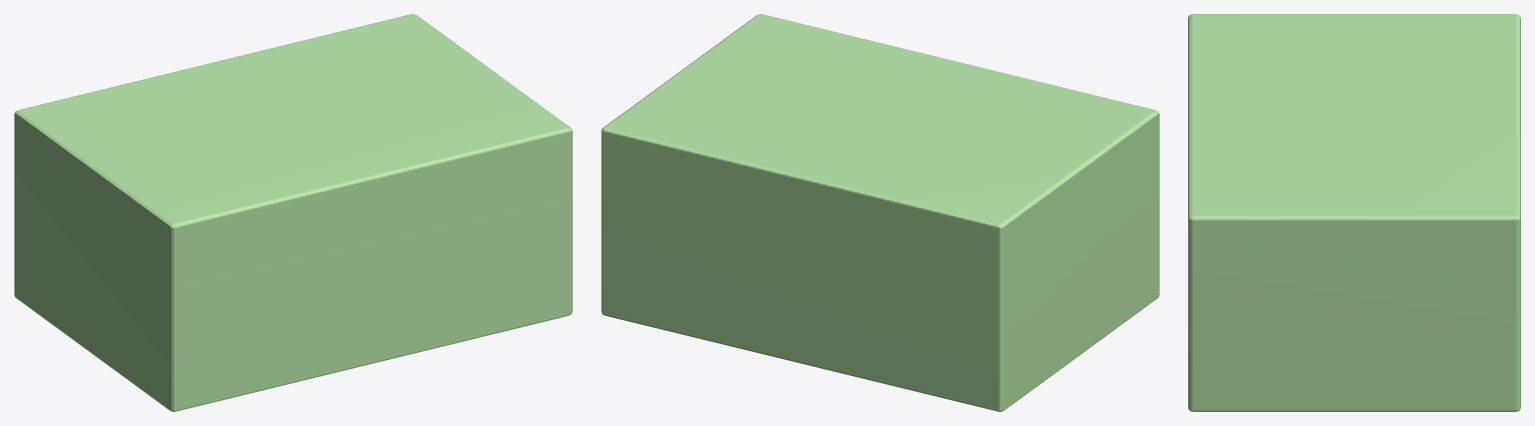
File: Medium A05.fbx
3 views of the same model, side by side, from view 1: azimuth 30°, elevation 25°; view 2: azimuth 150°, elevation 25°; view 3: azimuth 270°, elevation 25° (orthographic). The views are drawn at different scales.
Parts seen in each view (by area): view 1: Medium_A05; view 2: Medium_A05; view 3: Medium_A05.
Boxes of the visible parts, x1,y1,x2,y2 form: Medium_A05: (14, 14, 572, 411); Medium_A05: (601, 14, 1159, 411); Medium_A05: (1188, 14, 1520, 411).
Size of the model in its own units: 97.76 by 43.61 by 67.06.
